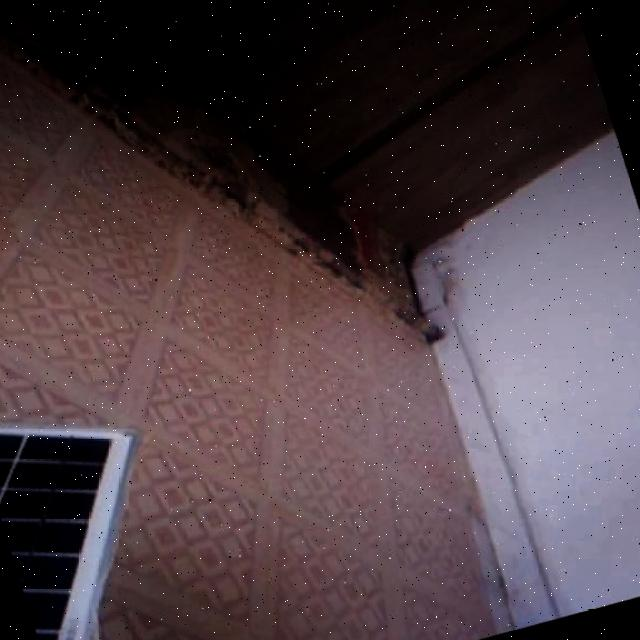Normal Solar Panel: (0, 381, 204, 640)
